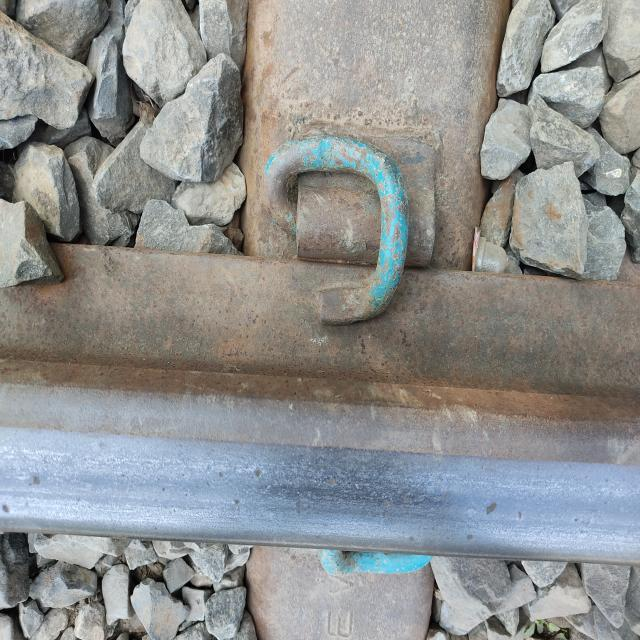Good Fasteners: (263, 135, 436, 322), (319, 549, 432, 576)
